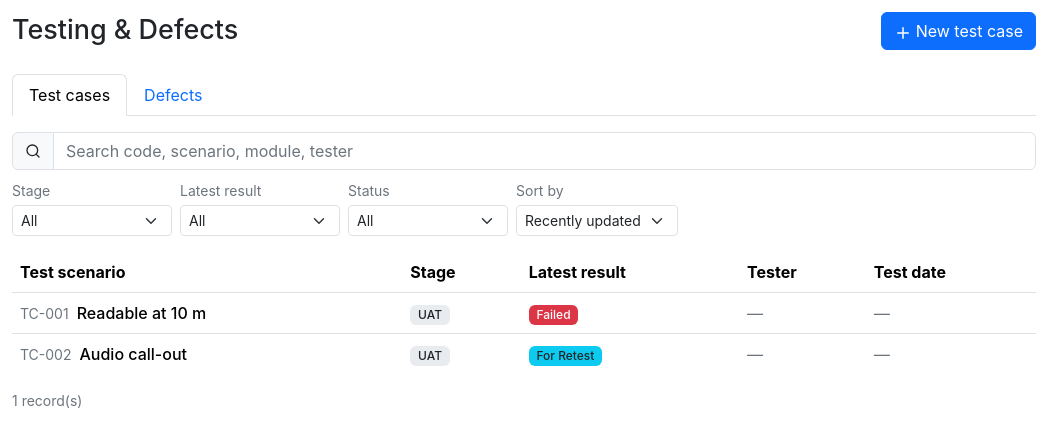
Testing & Defects list › shows latest results, keeping Failed and For Retest distinct, and switches to defects
Click the button "Defects" at [173, 95], box [127,74,219,116]
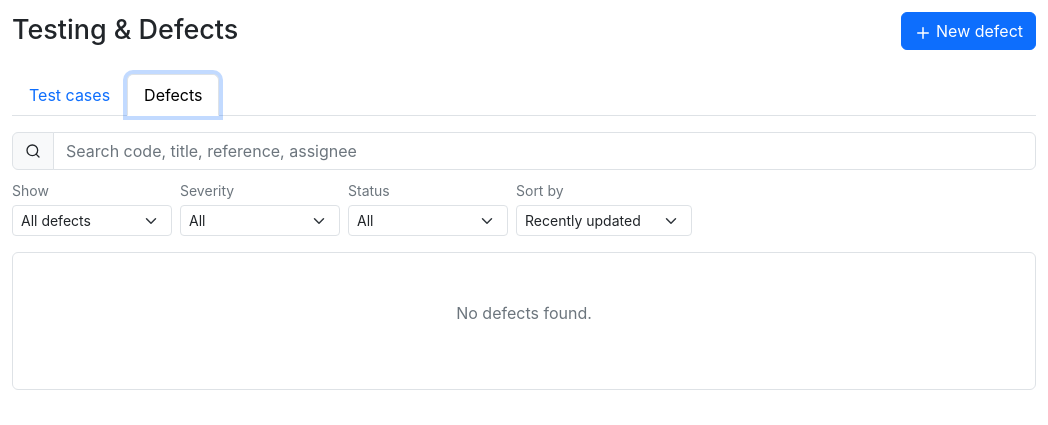
Expected: the text "No defects found." is shown, [456,303,592,323]
Expected: the link "New defect" is shown, [901,12,1036,50]
